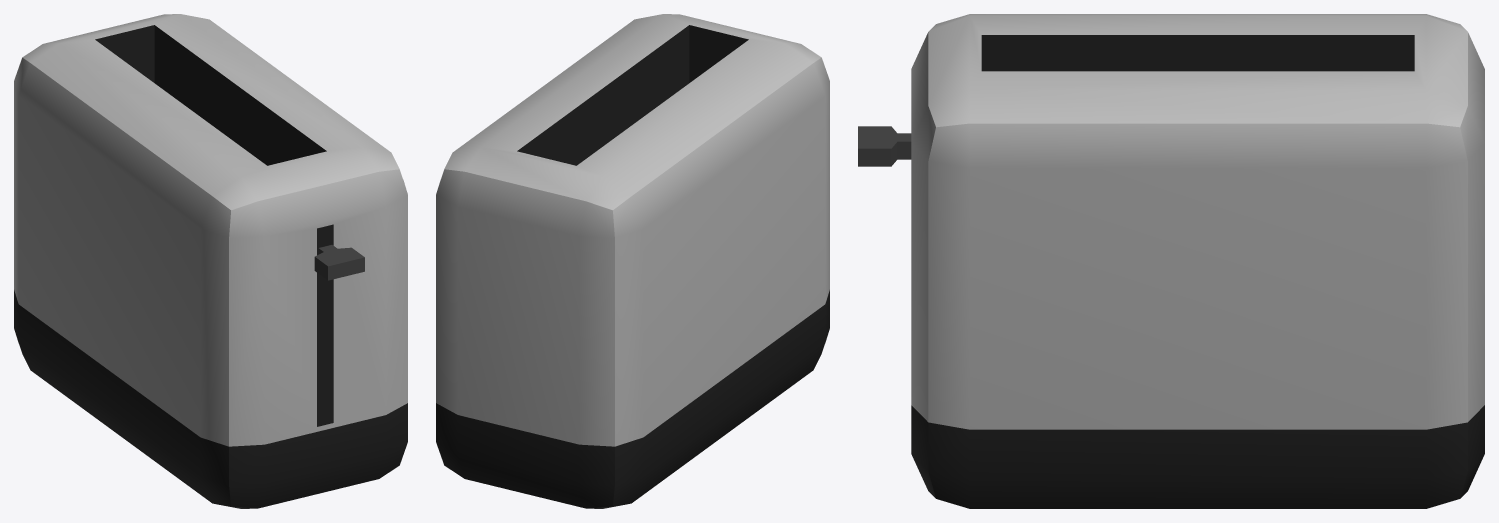
The model's file is electronics_008.fbx.
3 views of the same model, side by side, from view 1: azimuth 30°, elevation 25°; view 2: azimuth 150°, elevation 25°; view 3: azimuth 270°, elevation 25° (orthographic). The views are drawn at different scales.
Visible parts, largest first — view 1: electronics_008; view 2: electronics_008; view 3: electronics_008.
Boxes of the visible parts, <box> form: electronics_008: <box>14,14,407,508</box>; electronics_008: <box>436,14,829,508</box>; electronics_008: <box>858,14,1484,508</box>.
Bounding box in the file's own units: 22.95 × 49 × 35.93.
